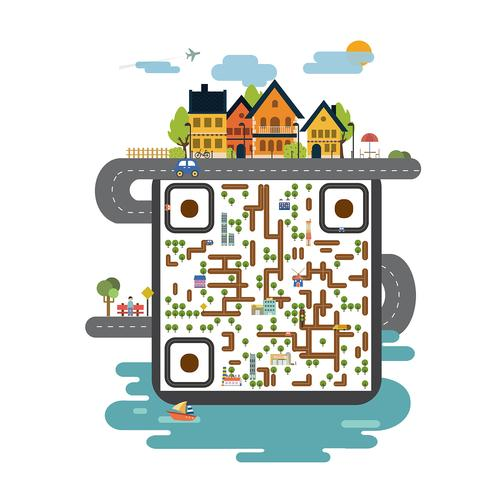QRCode: (162, 178, 370, 389)
